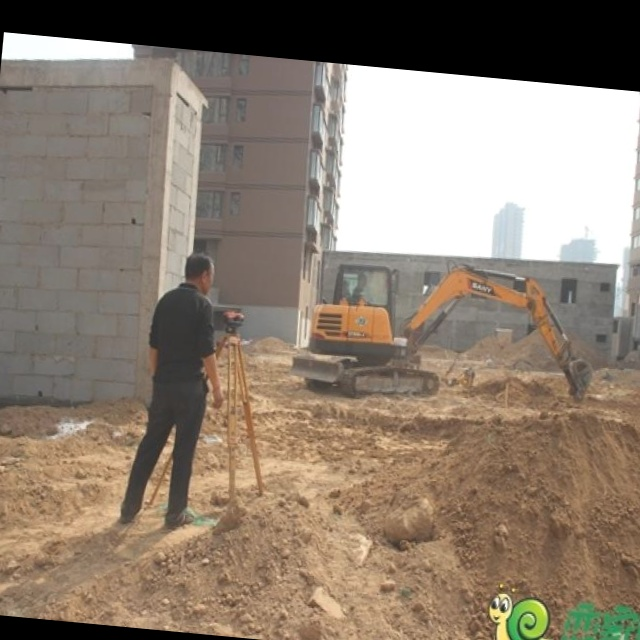Sin_Casco_Mascarrilla: (182, 250, 216, 291)
Sin_Chaleco: (149, 288, 216, 394)
